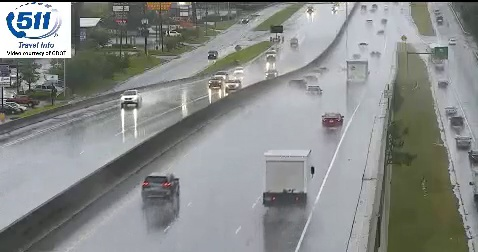car: (142, 172, 179, 201), (321, 113, 343, 129)
small-truck: (265, 150, 310, 200), (346, 60, 369, 85)
